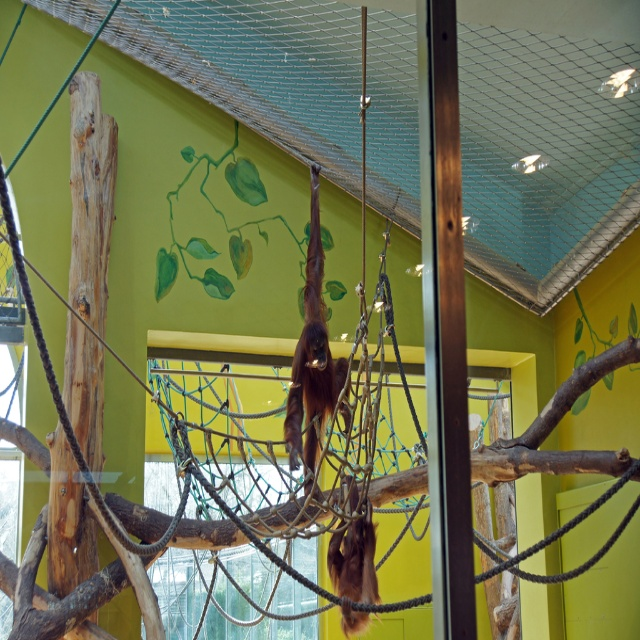Monkey: (284, 162, 351, 499)
